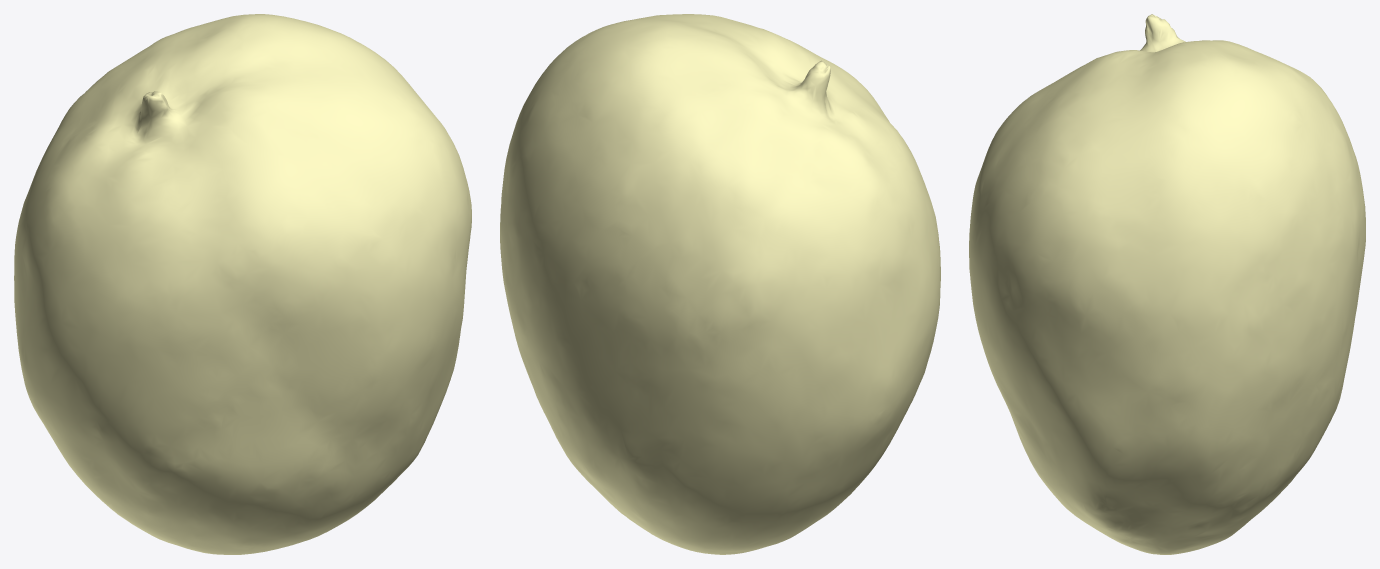
File: Mango_texture.glb
3 renders of one model, left to right at view 1: azimuth 30°, elevation 25°; view 2: azimuth 150°, elevation 25°; view 3: azimuth 270°, elevation 25°, orthographic. The views are drawn at different scales.
Visible parts, largest first — view 1: Mango_Skin; view 2: Mango_Skin; view 3: Mango_Skin.
Boxes of the visible parts, x1,y1,x2,y2 form: Mango_Skin: (14, 14, 471, 554); Mango_Skin: (500, 14, 940, 554); Mango_Skin: (969, 14, 1365, 554).
Size of the model in its own units: 0.1138 by 0.1369 by 0.1005.
